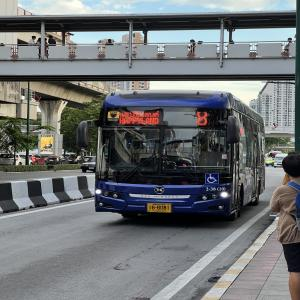Bus Line Number: (188, 108, 215, 129)
Bus Side Number: (204, 186, 227, 192)
Destination Sign: (117, 110, 164, 127)
TSB-Bus: (78, 91, 266, 221)
